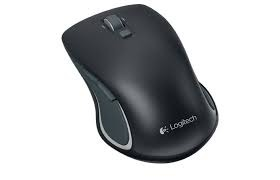mouse: (58, 5, 222, 164)
